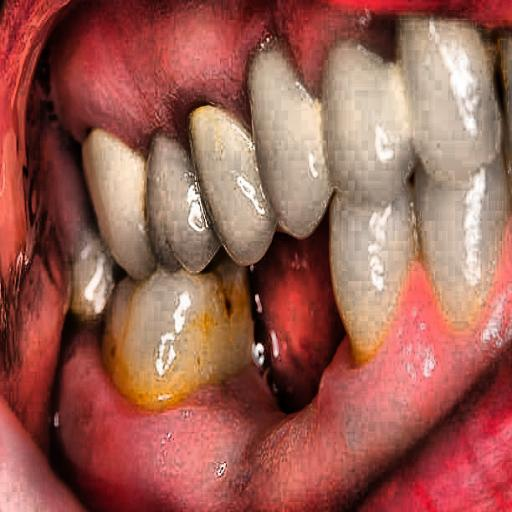Gingivitis: (58, 291, 358, 511), (48, 0, 371, 129)
